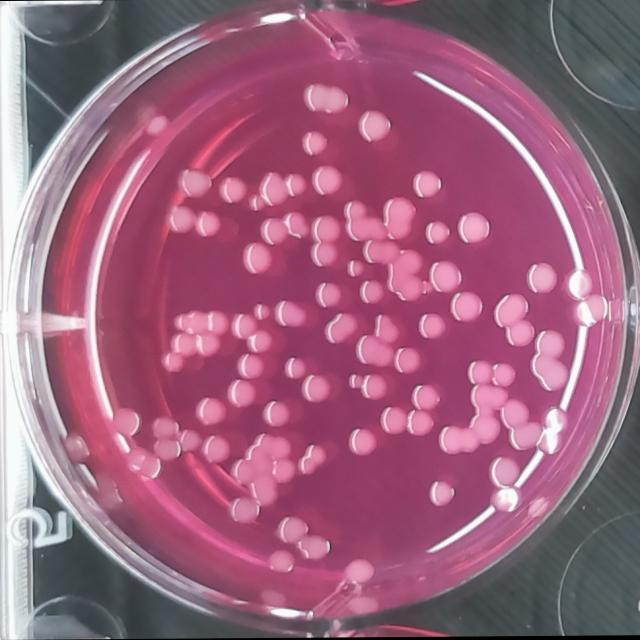Bacillus: (298, 79, 352, 113), (530, 354, 572, 395), (382, 192, 418, 239), (454, 210, 496, 250), (308, 162, 350, 200), (356, 107, 396, 146), (492, 291, 530, 331), (428, 256, 466, 295), (522, 259, 560, 297), (570, 292, 610, 328), (448, 289, 486, 326), (238, 240, 276, 276), (124, 445, 162, 481), (354, 332, 394, 366), (176, 165, 214, 200), (408, 167, 444, 203), (227, 493, 264, 528), (485, 455, 523, 489), (324, 310, 360, 345), (215, 173, 252, 207), (561, 265, 596, 300), (273, 512, 311, 544), (506, 421, 544, 452), (295, 442, 329, 476), (273, 298, 307, 332), (258, 168, 288, 206), (344, 425, 378, 458), (488, 485, 526, 514), (376, 404, 410, 436), (425, 477, 459, 509), (299, 373, 333, 405), (415, 310, 449, 342), (468, 414, 502, 446), (194, 394, 228, 426), (110, 406, 144, 438), (534, 328, 568, 360), (342, 554, 378, 584), (410, 380, 442, 413), (225, 377, 258, 409), (200, 432, 232, 464), (309, 212, 342, 243), (258, 398, 292, 428), (296, 533, 332, 561), (499, 398, 531, 429), (166, 203, 198, 234), (394, 246, 426, 277), (297, 128, 330, 158), (358, 372, 390, 402), (392, 346, 424, 376), (312, 280, 344, 310), (230, 309, 260, 341), (394, 273, 424, 305), (308, 241, 342, 269), (422, 217, 452, 248), (504, 319, 536, 348), (242, 327, 274, 356), (258, 215, 288, 245), (236, 351, 266, 381), (267, 547, 299, 575), (194, 208, 222, 239), (437, 423, 464, 455), (408, 409, 436, 439), (356, 278, 386, 306), (168, 330, 198, 358), (142, 112, 174, 138), (543, 405, 571, 434), (490, 360, 518, 388), (344, 214, 372, 242), (153, 437, 183, 463), (372, 312, 398, 342), (282, 210, 309, 238), (194, 330, 222, 357), (252, 480, 280, 507), (468, 357, 494, 386), (361, 237, 387, 266), (271, 456, 296, 486), (206, 306, 229, 338), (282, 170, 308, 198), (176, 425, 202, 453), (231, 458, 257, 486), (536, 430, 564, 456), (149, 415, 181, 437), (283, 354, 310, 380), (159, 349, 185, 373), (342, 198, 368, 222), (268, 434, 292, 460), (172, 310, 194, 332), (344, 258, 368, 278), (251, 301, 273, 321), (346, 370, 364, 390), (249, 193, 266, 213)
